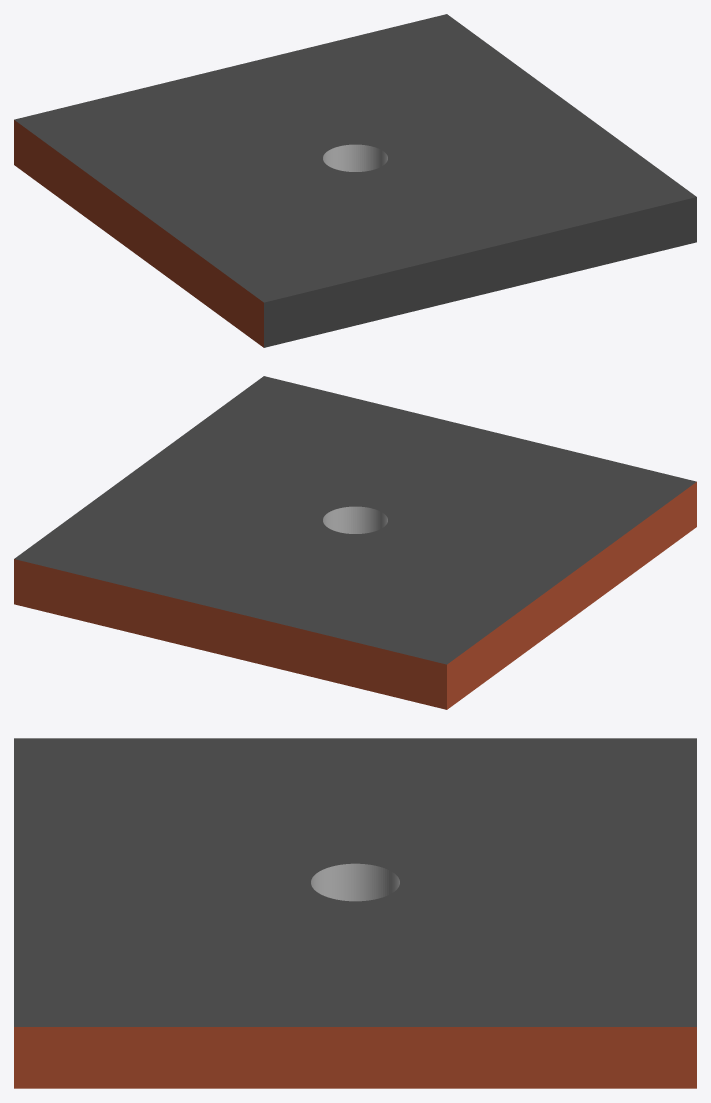
Rendered from hole.fbx.
The picture shows the model from 3 angles, top to bottom: view 1: azimuth 30°, elevation 25°; view 2: azimuth 150°, elevation 25°; view 3: azimuth 270°, elevation 25°; orthographic projection. The views are drawn at different scales.
Visible parts, largest first — view 1: Hole; view 2: Hole; view 3: Hole.
Part boxes in pixels (x1=…): Hole: x1=14, y1=14, x2=696, y2=347; Hole: x1=14, y1=376, x2=696, y2=709; Hole: x1=14, y1=738, x2=696, y2=1088.
Size of the model in its own units: 200 by 20 by 200.
